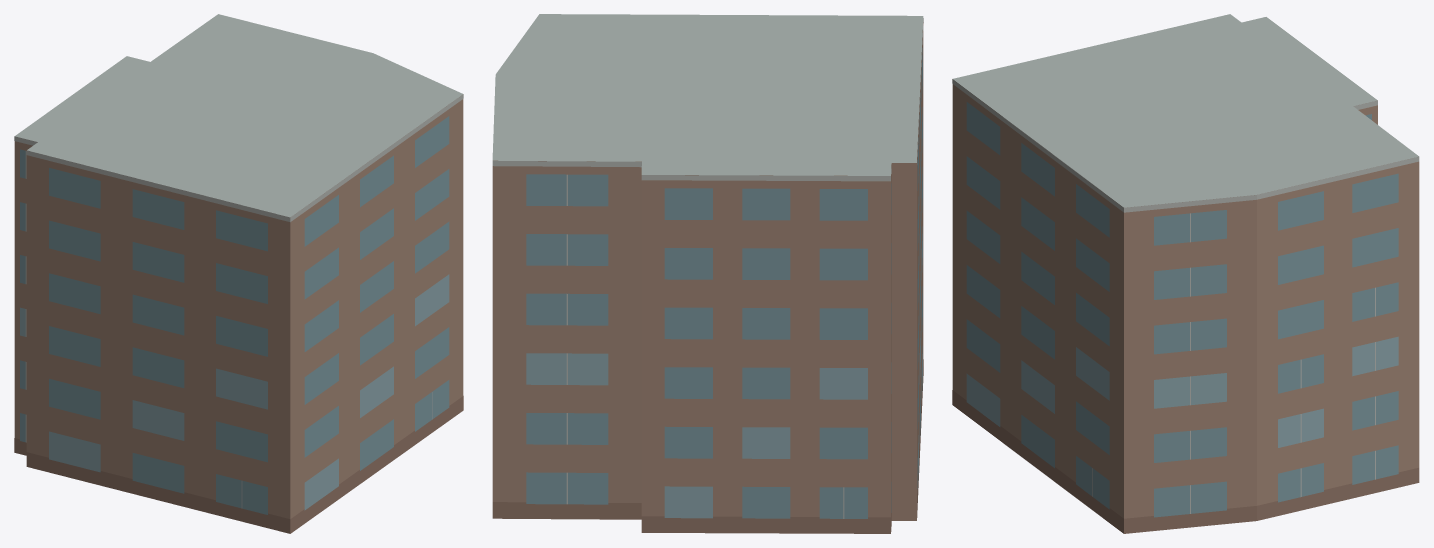
The model's file is survey-upis-32656285.glb.
3 renders of one model, left to right at view 1: azimuth 30°, elevation 25°; view 2: azimuth 150°, elevation 25°; view 3: azimuth 270°, elevation 25°, orthographic. The views are drawn at different scales.
Visible parts, largest first — view 1: survey-upis-32656285.tmp; view 2: survey-upis-32656285.tmp; view 3: survey-upis-32656285.tmp.
Boxes of the visible parts, bbox=[...] form: survey-upis-32656285.tmp: bbox=[14, 14, 463, 533]; survey-upis-32656285.tmp: bbox=[492, 14, 923, 533]; survey-upis-32656285.tmp: bbox=[952, 14, 1419, 533].
Bounding box in the file's own units: 20.65 × 16.2 × 21.03.
